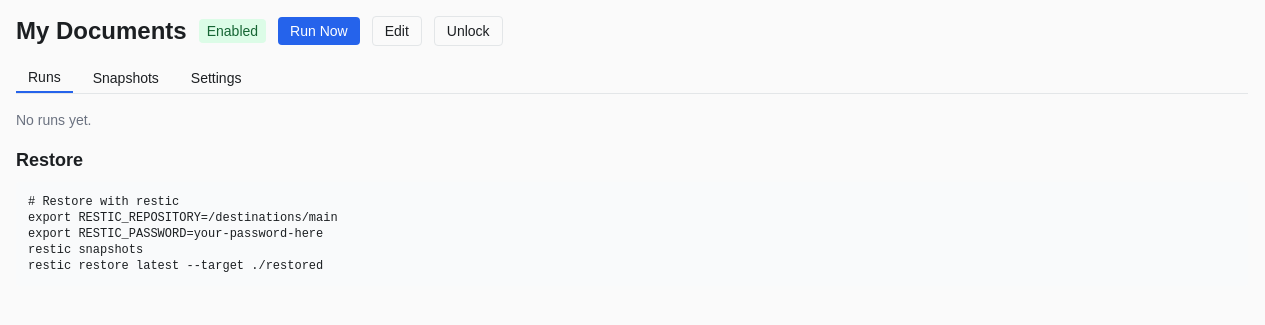
Test: JobDetail › Run Now behavior › shows 409 error when run is already in progress
This screenshot has width=1265, height=325.
Click the button "Run Now" at (319, 31), box [278,17,360,45]
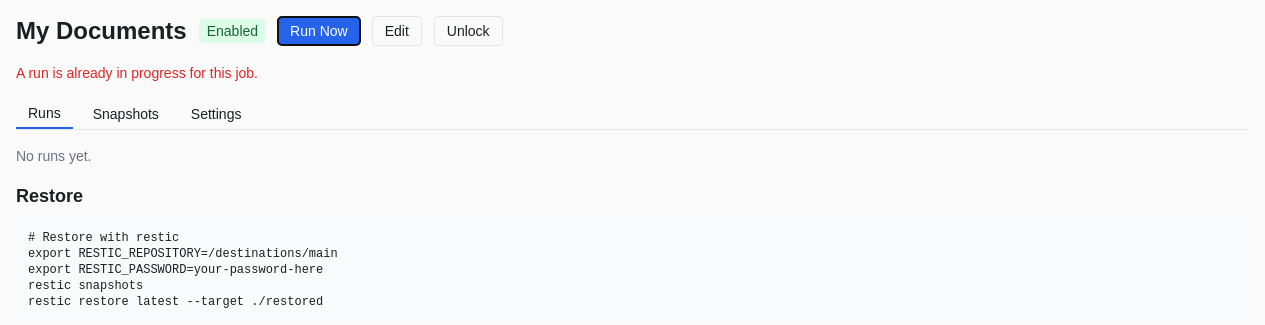
Expected: the text "A run is already in progress for this job." is shown, [16,65,258,81]
